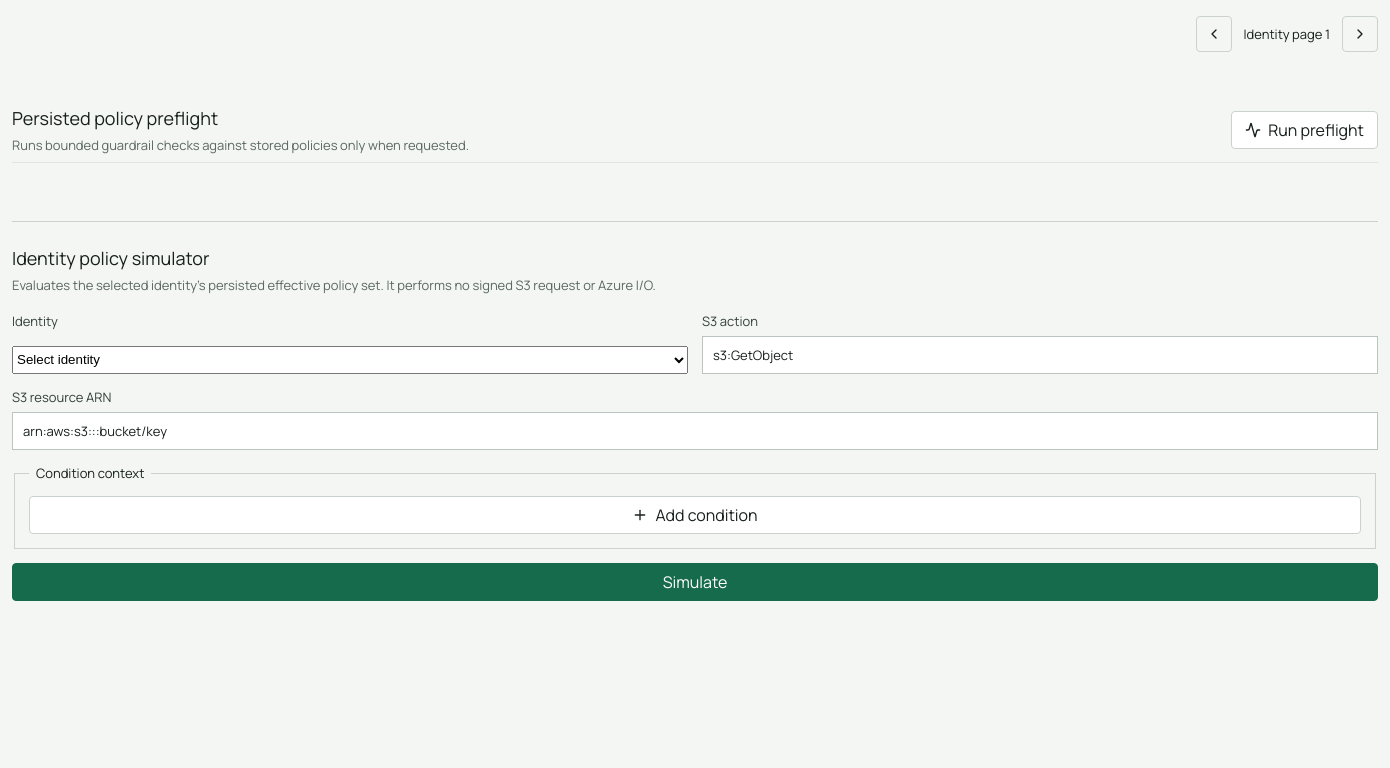
Test: PolicyDiagnostics › discards a delayed result when displayed inputs change
Select "SIMULATOR_KEY" in the dropdown labelled "Identity" at (350, 360), box [12,346,688,374]
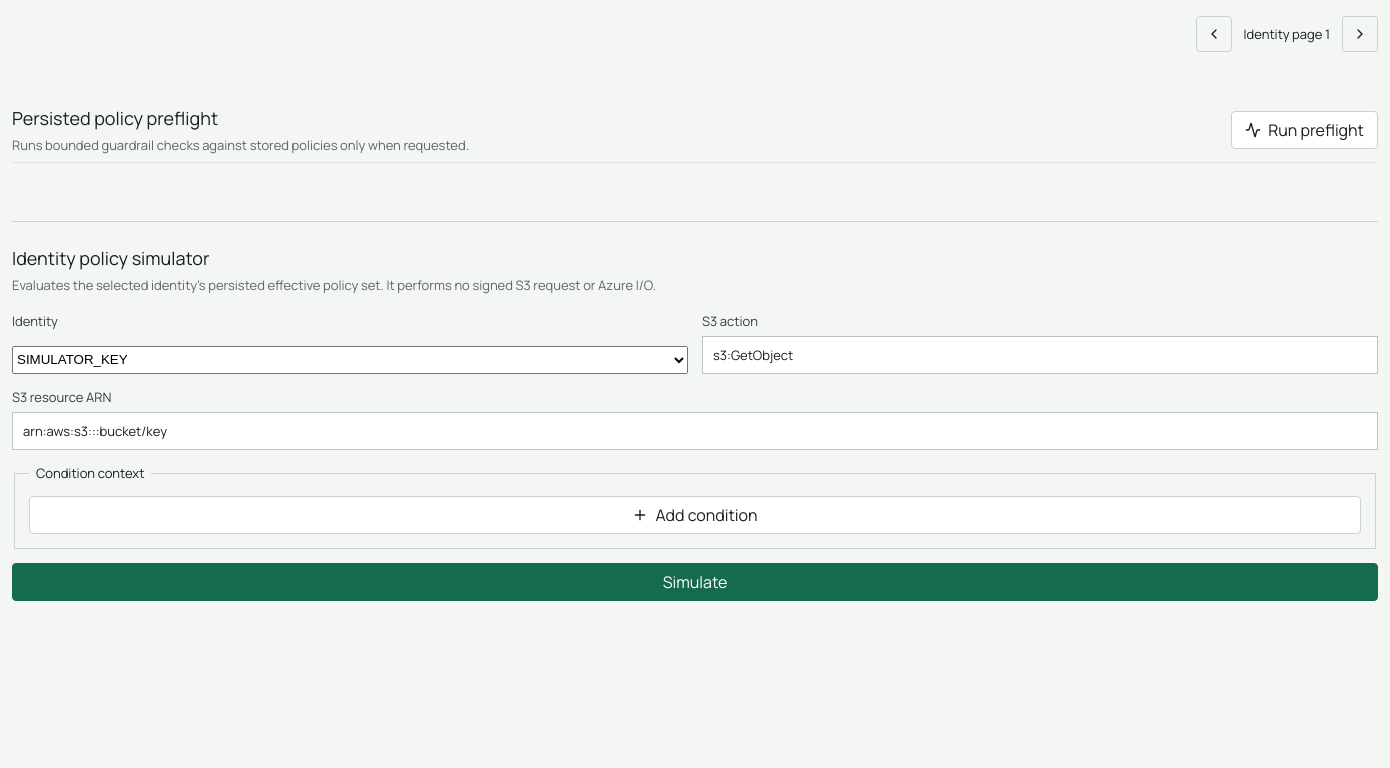
Submit the form "Simulate", box [12,312,1378,601]
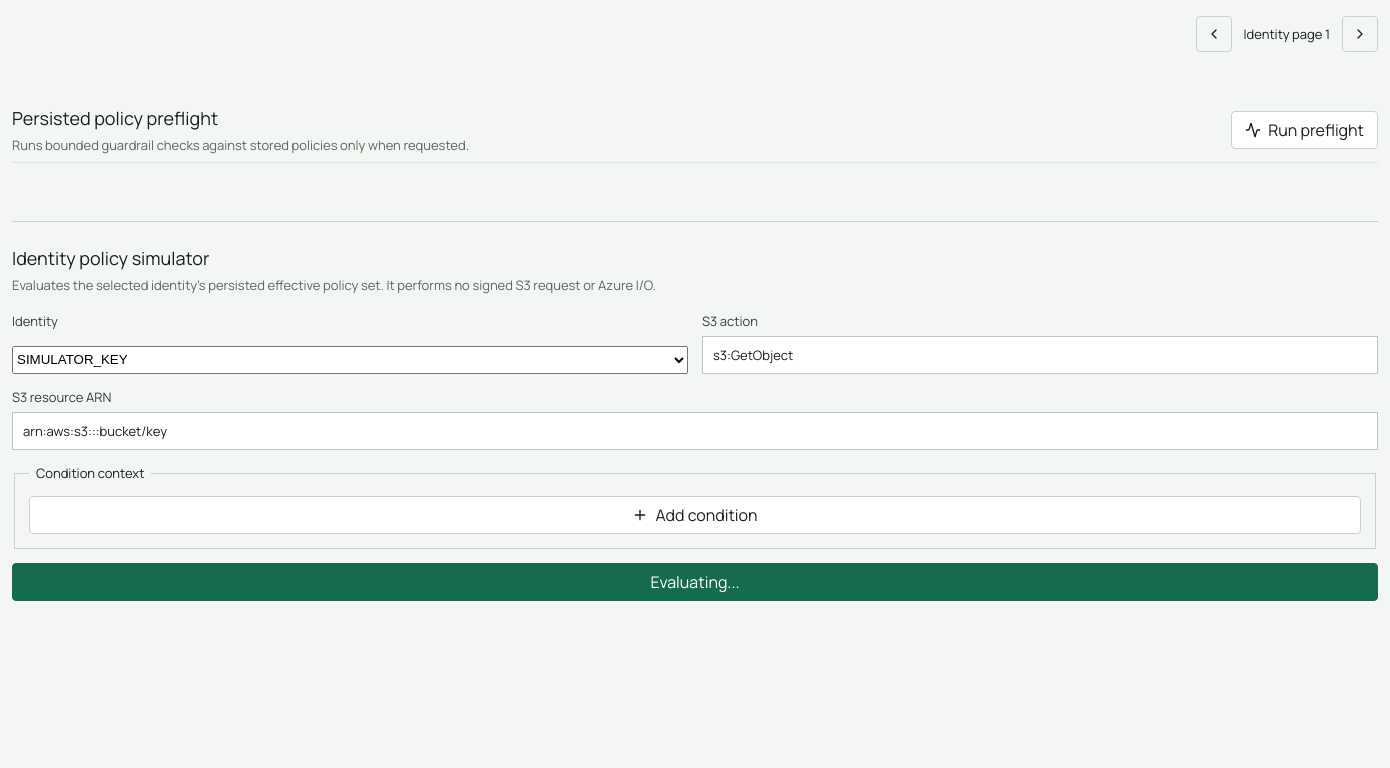
Replace the text in the field labelled "S3 action" with "s3:DeleteObject" at (1040, 355), box [702,336,1378,374]
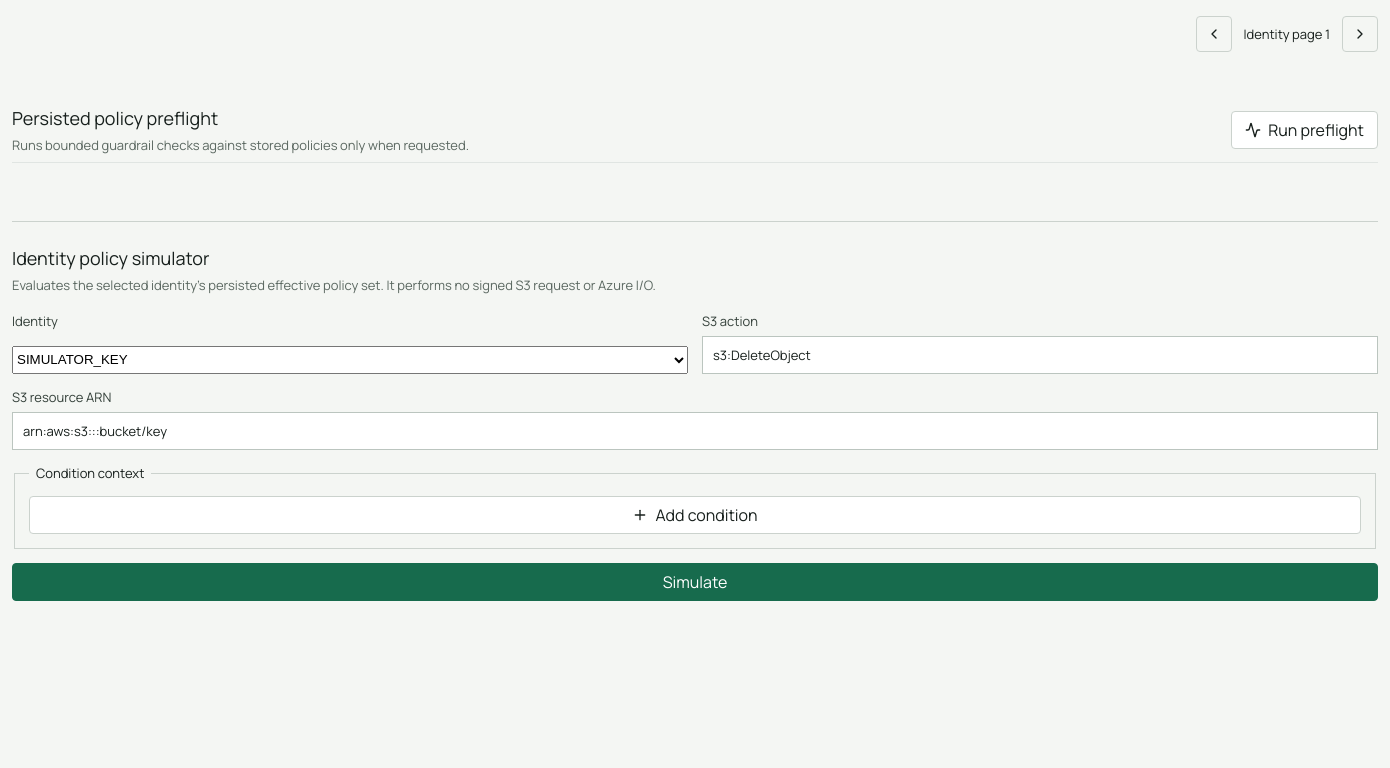
Check: the button "Simulate" is enabled, box [12,563,1378,601]
